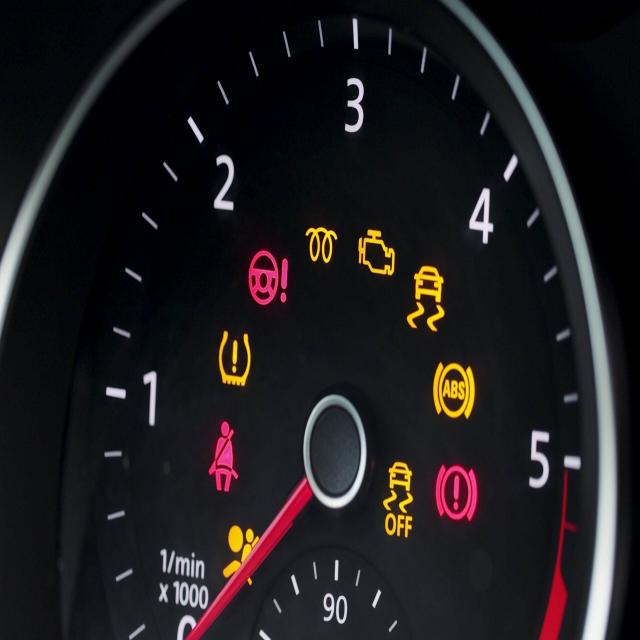kontrolka: (430, 451, 485, 540), (423, 353, 488, 427), (379, 447, 421, 542), (240, 236, 291, 314), (402, 257, 450, 337), (216, 518, 264, 594), (214, 320, 259, 398), (357, 218, 397, 282), (300, 212, 342, 270)
